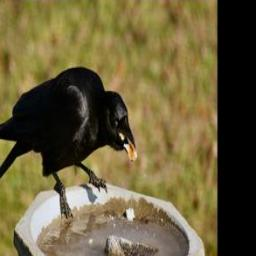Crow: (0, 64, 138, 222)
